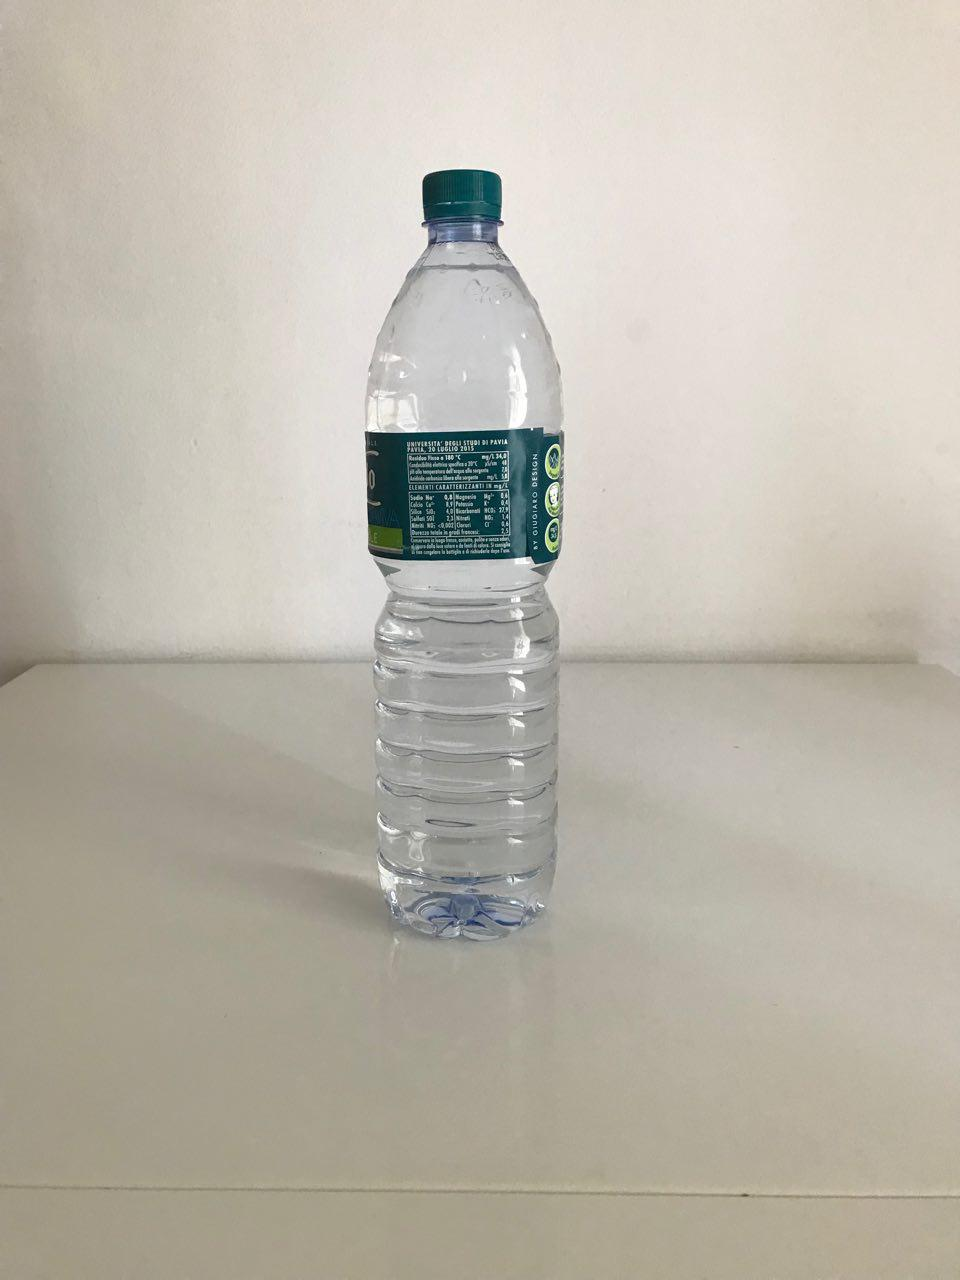san_bernardo: (361, 166, 567, 944)
